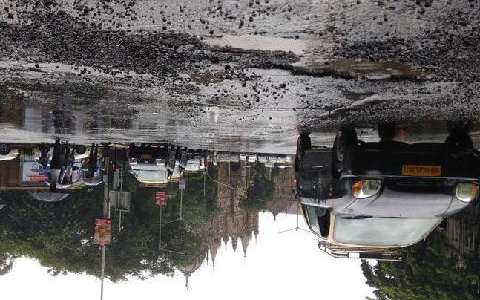pothole: (277, 54, 428, 83), (194, 32, 311, 62)
